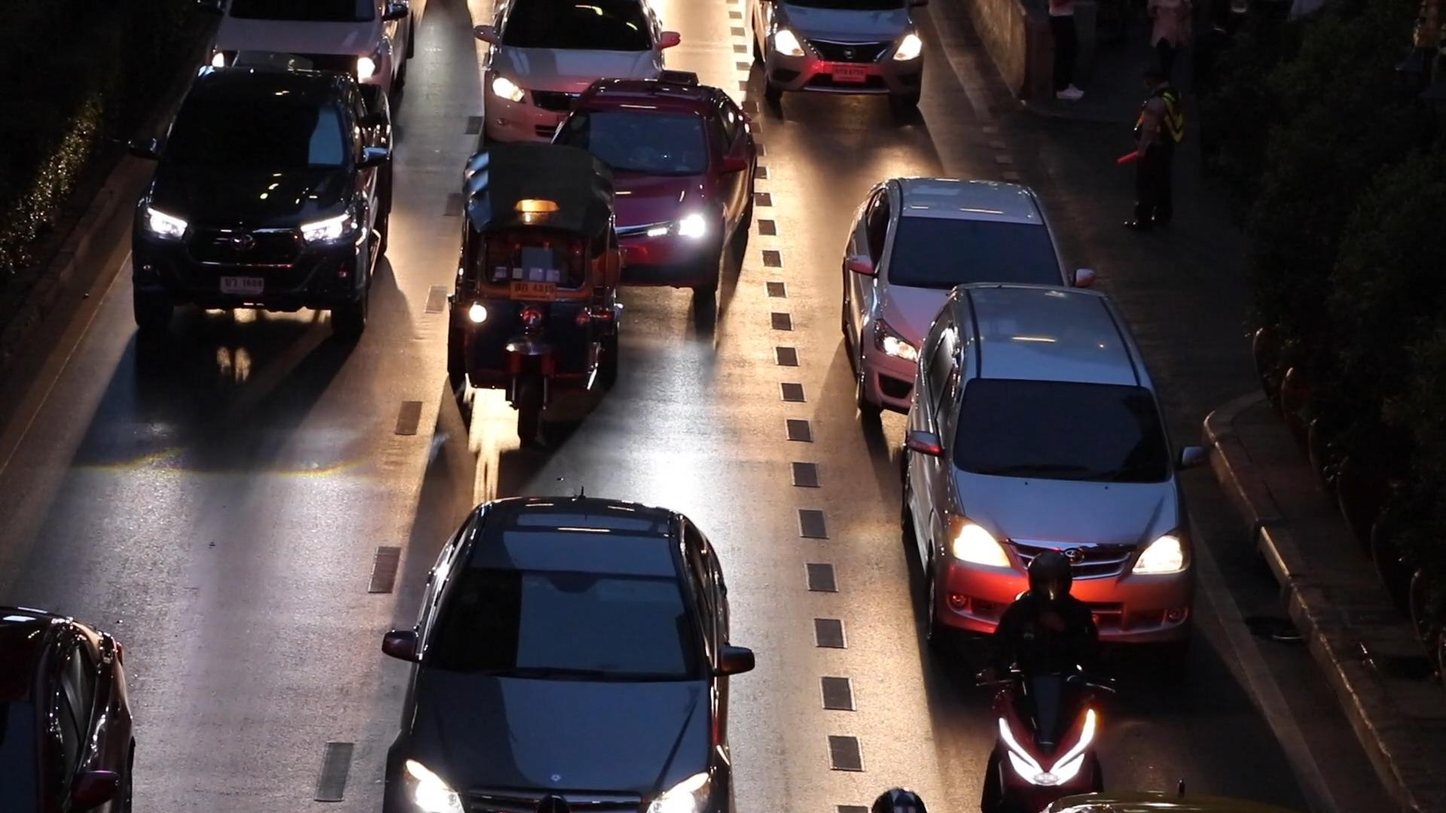driver: (969, 549, 1119, 813)
helmet: (1027, 550, 1074, 611)
